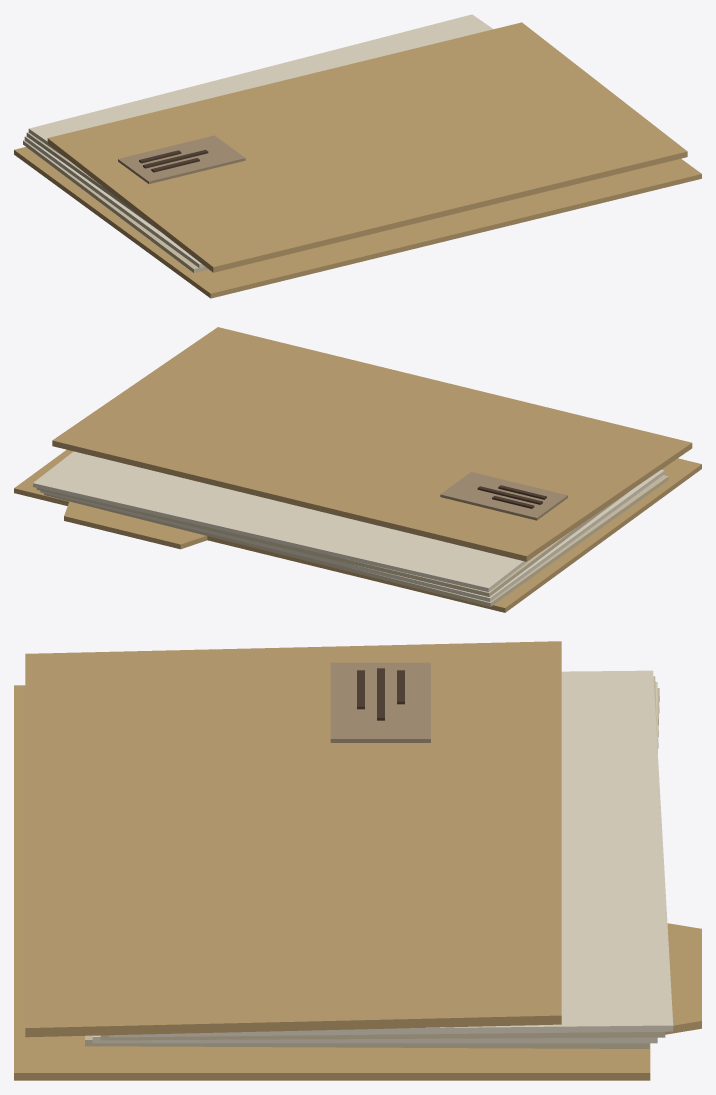
Rendered from Bell_CorrespondenceFolder.fbx.
The picture shows the model from 3 angles, top to bottom: view 1: azimuth 30°, elevation 25°; view 2: azimuth 150°, elevation 25°; view 3: azimuth 270°, elevation 25°; orthographic projection. The views are drawn at different scales.
Parts seen in each view (by area): view 1: Bell_CorrespondenceFolder; view 2: Bell_CorrespondenceFolder; view 3: Bell_CorrespondenceFolder.
Part boxes in pixels (x1,y1,x2,y2): Bell_CorrespondenceFolder: [14, 14, 701, 298]; Bell_CorrespondenceFolder: [14, 327, 701, 612]; Bell_CorrespondenceFolder: [14, 641, 701, 1080].
Size of the model in its own units: 0.32 by 0.0238 by 0.24.
